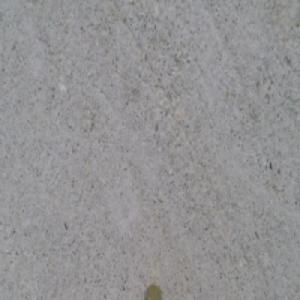BoltNutSet: (144, 285, 162, 299)
